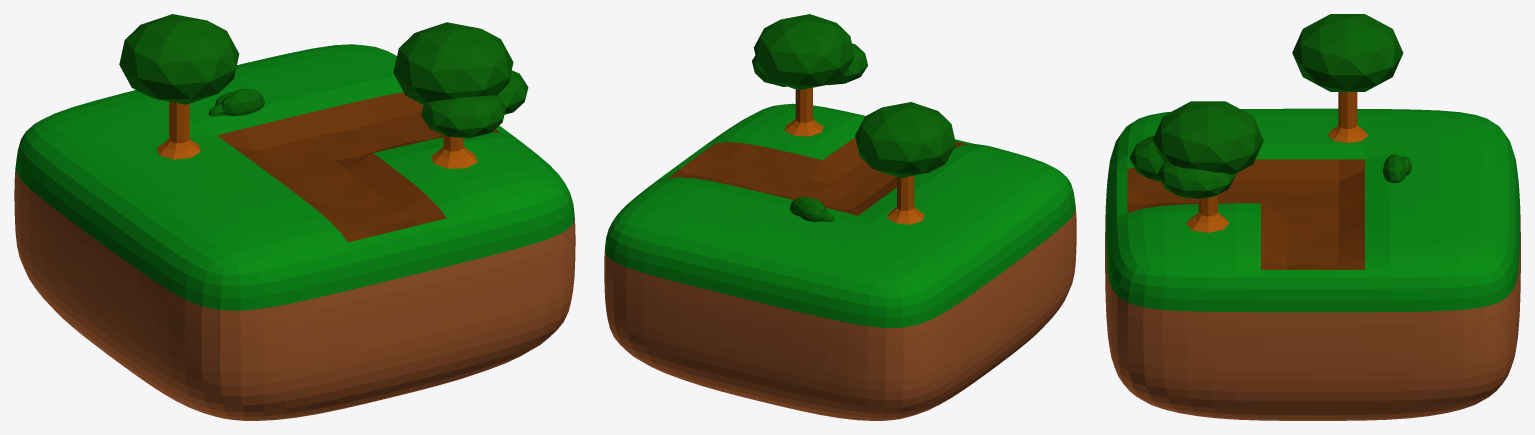
The model's file is platformTourneForet.fbx.
3 renders of one model, left to right at view 1: azimuth 30°, elevation 25°; view 2: azimuth 150°, elevation 25°; view 3: azimuth 270°, elevation 25°, orthographic. The views are drawn at different scales.
Parts seen in each view (by area): view 1: foret turn; view 2: foret turn; view 3: foret turn.
Part boxes in pixels (box(x1,y1,x2,y2)): foret turn: box(14, 14, 575, 420); foret turn: box(604, 14, 1076, 420); foret turn: box(1105, 14, 1520, 420).
Size of the model in its own units: 200 by 161 by 200.
